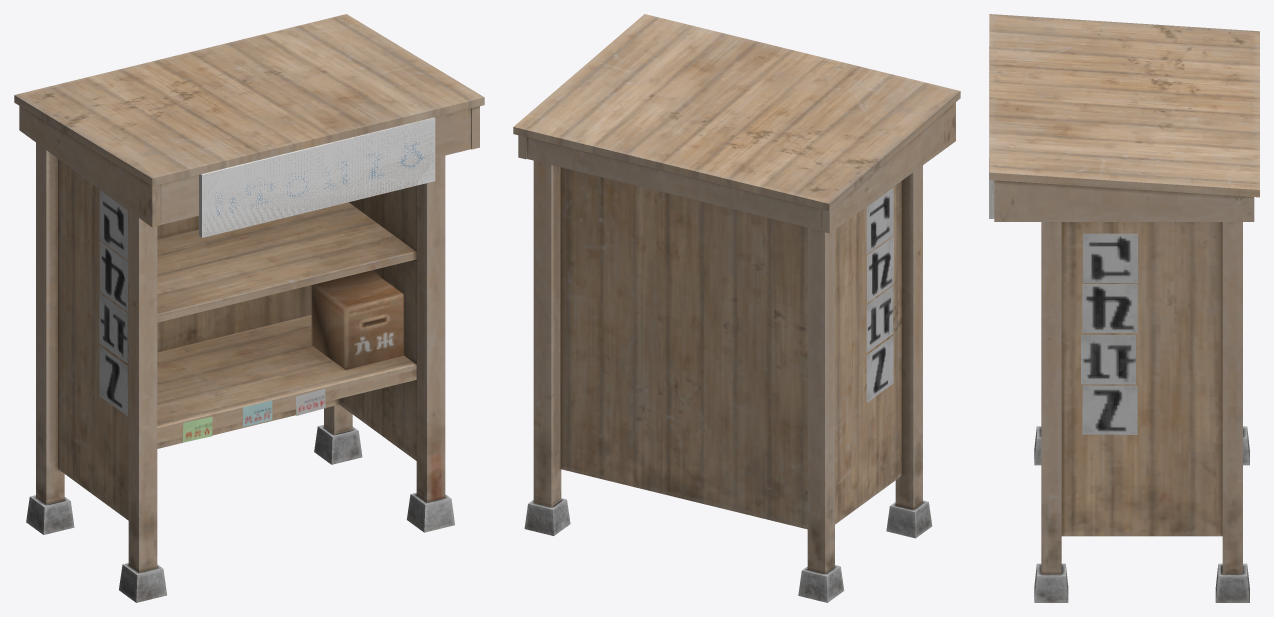
The model's file is objects_un_dlc1_farmstand01.gltf.
3 renders of one model, left to right at view 1: azimuth 30°, elevation 25°; view 2: azimuth 150°, elevation 25°; view 3: azimuth 270°, elevation 25°, orthographic. The views are drawn at different scales.
Parts seen in each view (by area): view 1: um_objects_un_dlc1_farmstand01_model_lod0Shape:objects_un_dl (×3), um_objects_un_dlc1_farmstand01_model_lod2Shape:objects_un_dl; view 2: um_objects_un_dlc1_farmstand01_model_lod0Shape:objects_un_dl (×2); view 3: um_objects_un_dlc1_farmstand01_model_lod0Shape:objects_un_dl (×2), um_objects_un_dlc1_farmstand01_model_lod2Shape:objects_un_dl.
Boxes of the visible parts, left/top/right/bottom form: um_objects_un_dlc1_farmstand01_model_lod0Shape:objects_un_dl (×3): left=14, top=14, right=484, bottom=602; um_objects_un_dlc1_farmstand01_model_lod2Shape:objects_un_dl: left=76, top=152, right=152, bottom=227; um_objects_un_dlc1_farmstand01_model_lod0Shape:objects_un_dl (×2): left=513, top=14, right=960, bottom=602; um_objects_un_dlc1_farmstand01_model_lod0Shape:objects_un_dl (×2): left=989, top=14, right=1259, bottom=602; um_objects_un_dlc1_farmstand01_model_lod2Shape:objects_un_dl: left=994, top=180, right=1252, bottom=221.
Bounding box in the file's own units: 1.56 × 1.99 × 1.13.
Materials: 3 (2 with a texture image).
